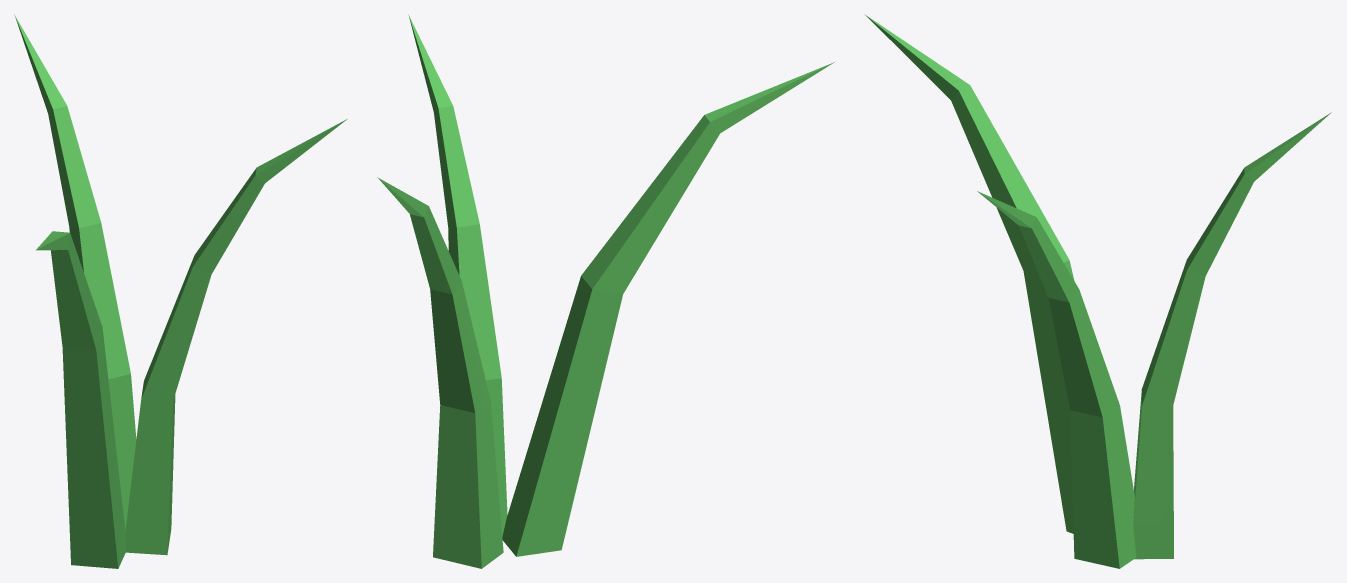
Rendered from Grass_2.fbx.
3 views of the same model, side by side, from view 1: azimuth 30°, elevation 25°; view 2: azimuth 150°, elevation 25°; view 3: azimuth 270°, elevation 25° (orthographic). The views are drawn at different scales.
Parts seen in each view (by area): view 1: Grass_02; view 2: Grass_02; view 3: Grass_02.
Boxes of the visible parts, left/top/right/bottom form: Grass_02: left=14, top=15, right=347, bottom=568; Grass_02: left=377, top=15, right=834, bottom=568; Grass_02: left=865, top=15, right=1331, bottom=568.
Bounding box in the file's own units: 102 × 118 × 115.
